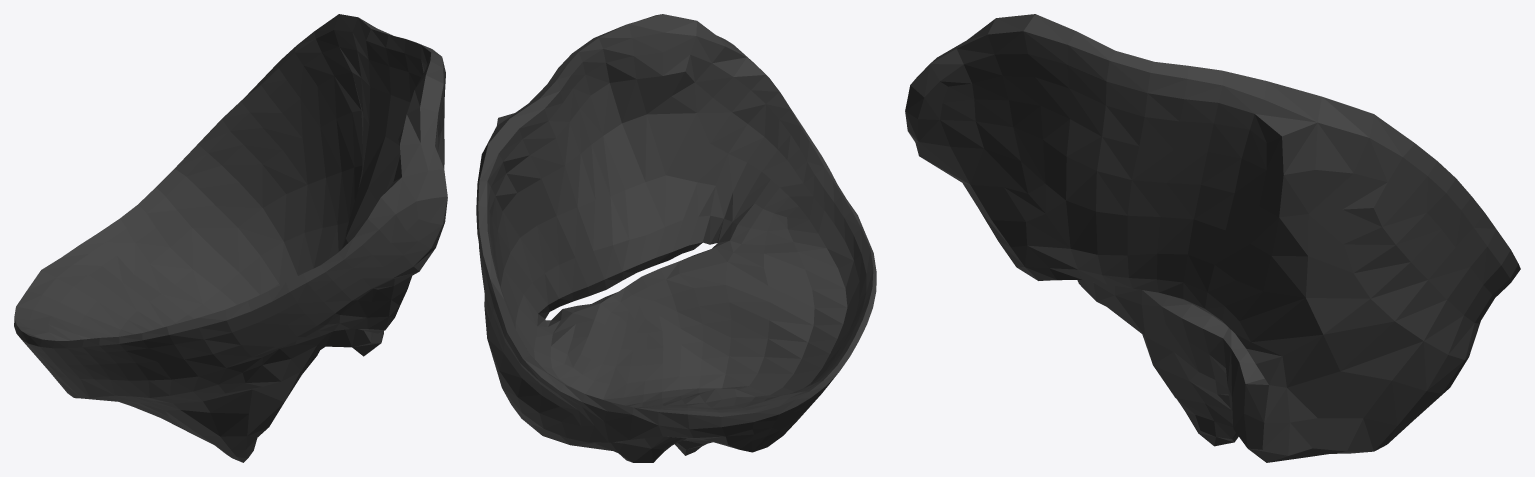
The model's file is L_AV_VALVE.glb.
3 views of the same model, side by side, from view 1: azimuth 30°, elevation 25°; view 2: azimuth 150°, elevation 25°; view 3: azimuth 270°, elevation 25° (orthographic). The views are drawn at different scales.
Visible parts, largest first — view 1: L_AV_VALVE; view 2: L_AV_VALVE; view 3: L_AV_VALVE.
Boxes of the visible parts, x1=… form: L_AV_VALVE: x1=14, y1=14, x2=447, y2=462; L_AV_VALVE: x1=476, y1=14, x2=876, y2=462; L_AV_VALVE: x1=905, y1=14, x2=1520, y2=462.
Size of the model in its own units: 2.92 by 3.09 by 3.48.
Materials: 1 (1 with a texture image).
